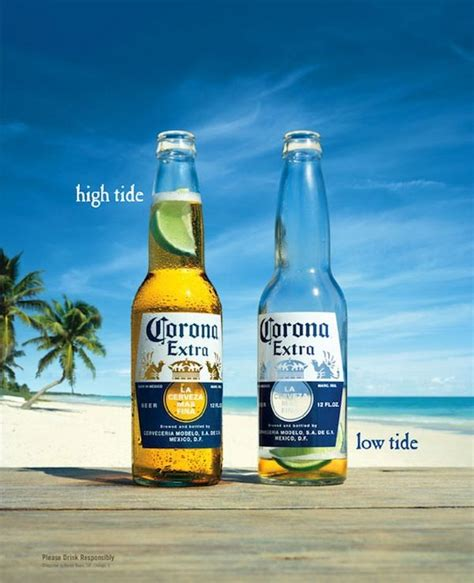alcohol: (129, 132, 223, 489), (251, 133, 346, 485)
